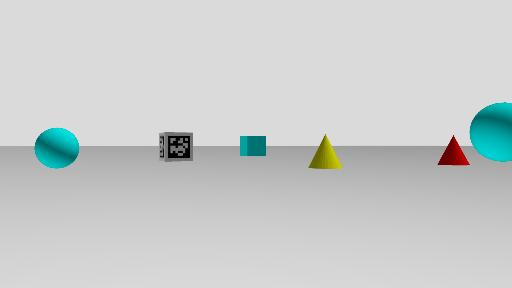red_cone: (437, 135, 470, 165)
yellow_cone: (307, 134, 343, 168)
